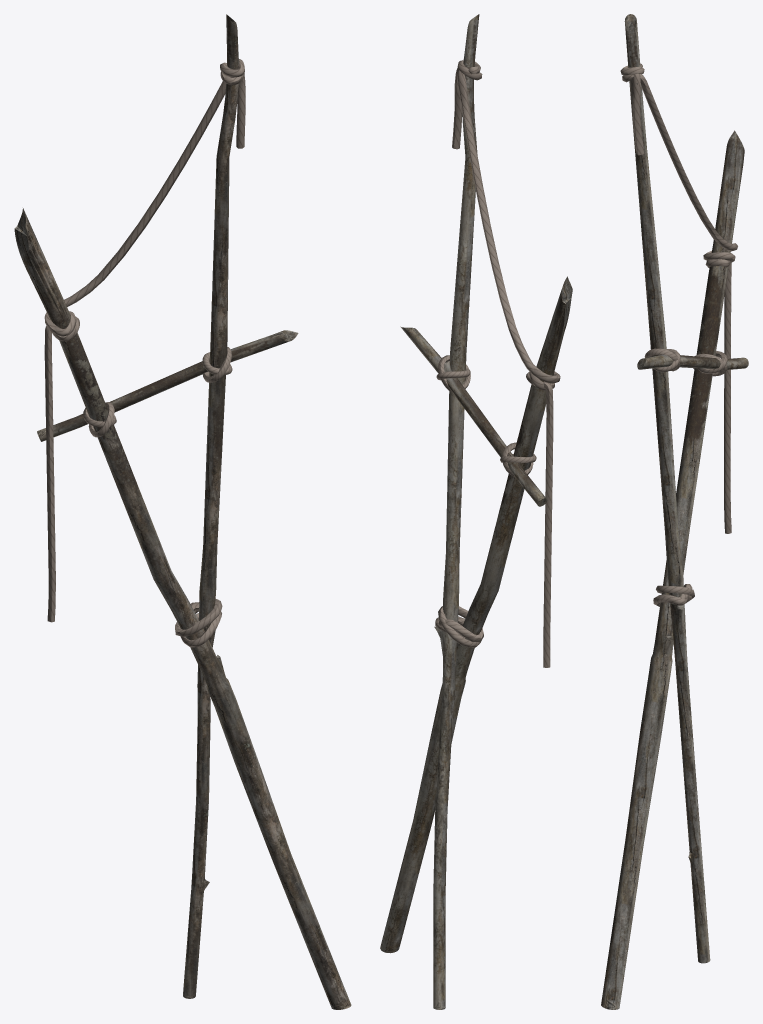
Rendered from SM_TwigTotems-1.fbx.
3 renders of one model, left to right at view 1: azimuth 30°, elevation 25°; view 2: azimuth 150°, elevation 25°; view 3: azimuth 270°, elevation 25°, orthographic. The views are drawn at different scales.
Visible parts, largest first — view 1: SM_TwigTotems-1_LOD0; view 2: SM_TwigTotems-1_LOD0; view 3: SM_TwigTotems-1_LOD0.
Boxes of the visible parts, box(x1,y1,x2,y2) form: SM_TwigTotems-1_LOD0: box(14, 14, 351, 1009); SM_TwigTotems-1_LOD0: box(380, 14, 572, 1009); SM_TwigTotems-1_LOD0: box(601, 14, 748, 1009).
Size of the model in its own units: 69.81 by 36.12 by 255.
